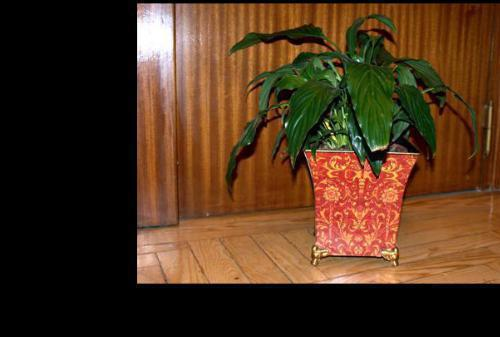Matera: (219, 14, 487, 268)
